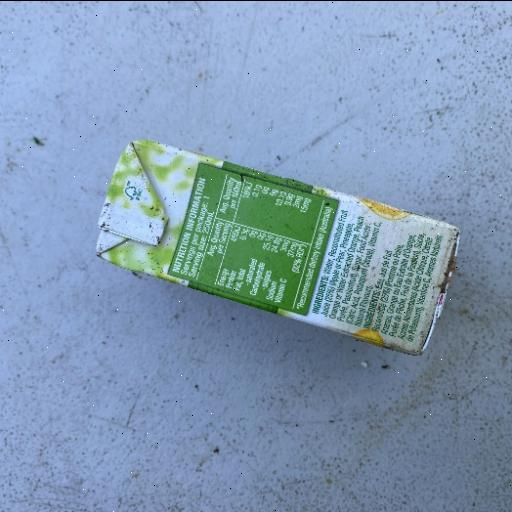Cardboard: (94, 138, 462, 356)
